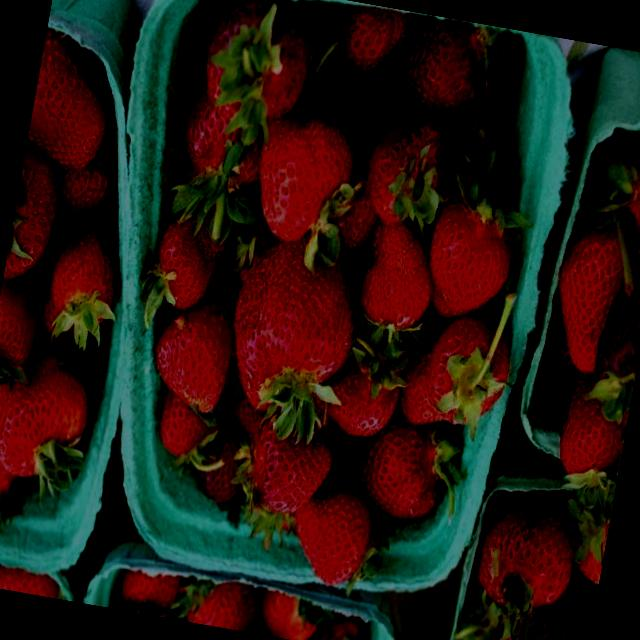Strawberry: (215, 228, 366, 428), (0, 326, 106, 515), (240, 107, 368, 250), (396, 304, 518, 442), (198, 0, 322, 129), (542, 216, 640, 375), (413, 191, 523, 331), (23, 33, 126, 175), (474, 492, 584, 622), (342, 419, 457, 530), (231, 412, 341, 528), (144, 290, 242, 420), (360, 106, 462, 230), (346, 212, 440, 338), (390, 14, 498, 121), (280, 486, 384, 594), (140, 205, 237, 314), (44, 214, 134, 330), (1, 149, 68, 292), (556, 368, 634, 488), (320, 347, 410, 444), (588, 120, 640, 275), (332, 2, 408, 80), (495, 582, 596, 640), (152, 392, 218, 462)
